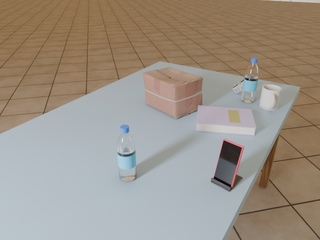book: (196, 105, 256, 136)
bottle: (117, 125, 136, 182), (241, 58, 259, 103)
box: (143, 67, 203, 119)
cup: (259, 84, 282, 110)
phone: (213, 139, 244, 188)
toy_car: (232, 79, 244, 93)
